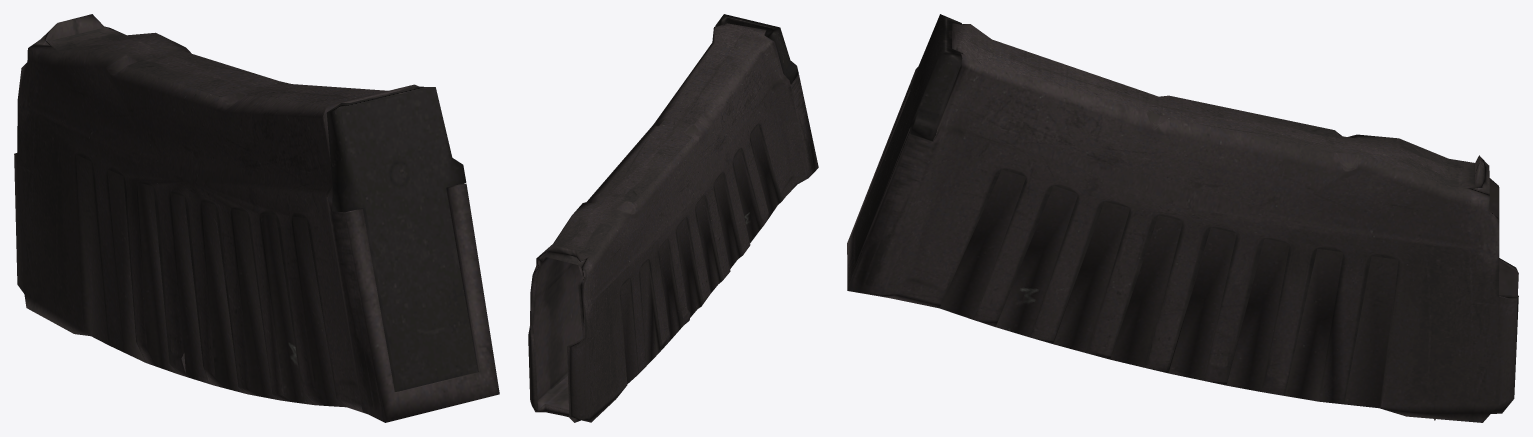
File: Mag9x39ExtSm.fbx
3 renders of one model, left to right at view 1: azimuth 30°, elevation 25°; view 2: azimuth 150°, elevation 25°; view 3: azimuth 270°, elevation 25°, orthographic. The views are drawn at different scales.
Visible parts, largest first — view 1: Mag9x39ExtSm; view 2: Mag9x39ExtSm; view 3: Mag9x39ExtSm.
Boxes of the visible parts, bbox=[...] form: Mag9x39ExtSm: bbox=[14, 14, 499, 422]; Mag9x39ExtSm: bbox=[528, 14, 818, 422]; Mag9x39ExtSm: bbox=[847, 14, 1518, 422].
Size of the model in its own units: 0.0181 by 0.0621 by 0.0996.
